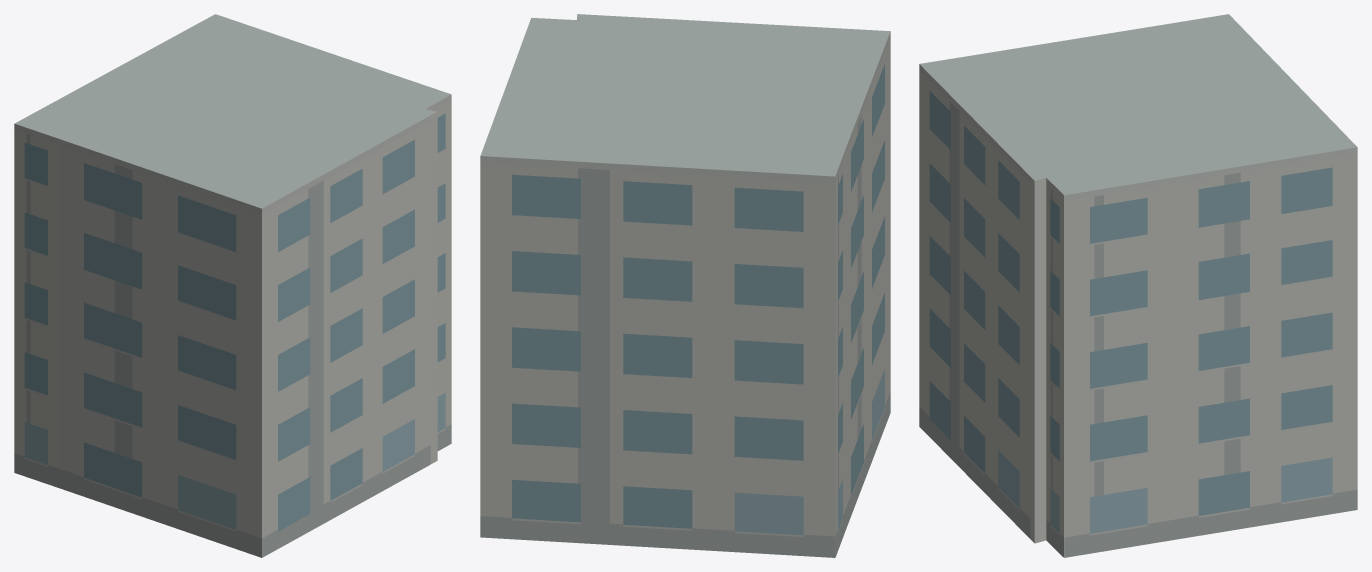
The model's file is survey-upis-32843022.glb.
3 views of the same model, side by side, from view 1: azimuth 30°, elevation 25°; view 2: azimuth 150°, elevation 25°; view 3: azimuth 270°, elevation 25° (orthographic). The views are drawn at different scales.
Parts seen in each view (by area): view 1: survey-upis-32843022.tmp; view 2: survey-upis-32843022.tmp; view 3: survey-upis-32843022.tmp.
Boxes of the visible parts, x1=… form: survey-upis-32843022.tmp: x1=14, y1=14, x2=451, y2=557; survey-upis-32843022.tmp: x1=480, y1=14, x2=890, y2=557; survey-upis-32843022.tmp: x1=919, y1=14, x2=1357, y2=557.
Size of the model in its own units: 15.13 by 14.1 by 15.46.
